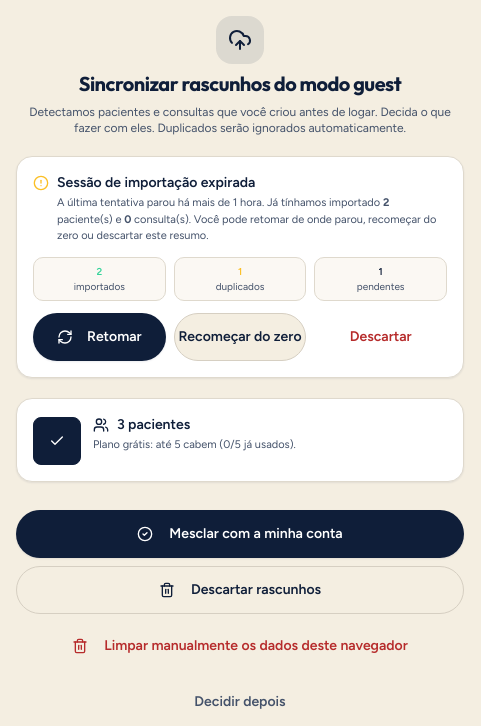
Test case: SyncGuestData — fallback de checkpoint expirado › "Recomeçar do zero" some com o banner e regrava um checkpoint zerado
Click the button with test id "sync-checkpoint-restart" at (240, 336), box [174, 312, 306, 360]
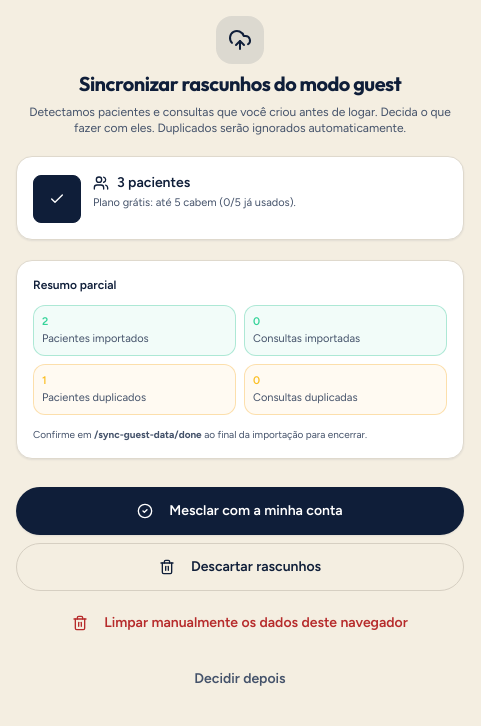
Result: the element with test id "sync-checkpoint-expired" is gone
